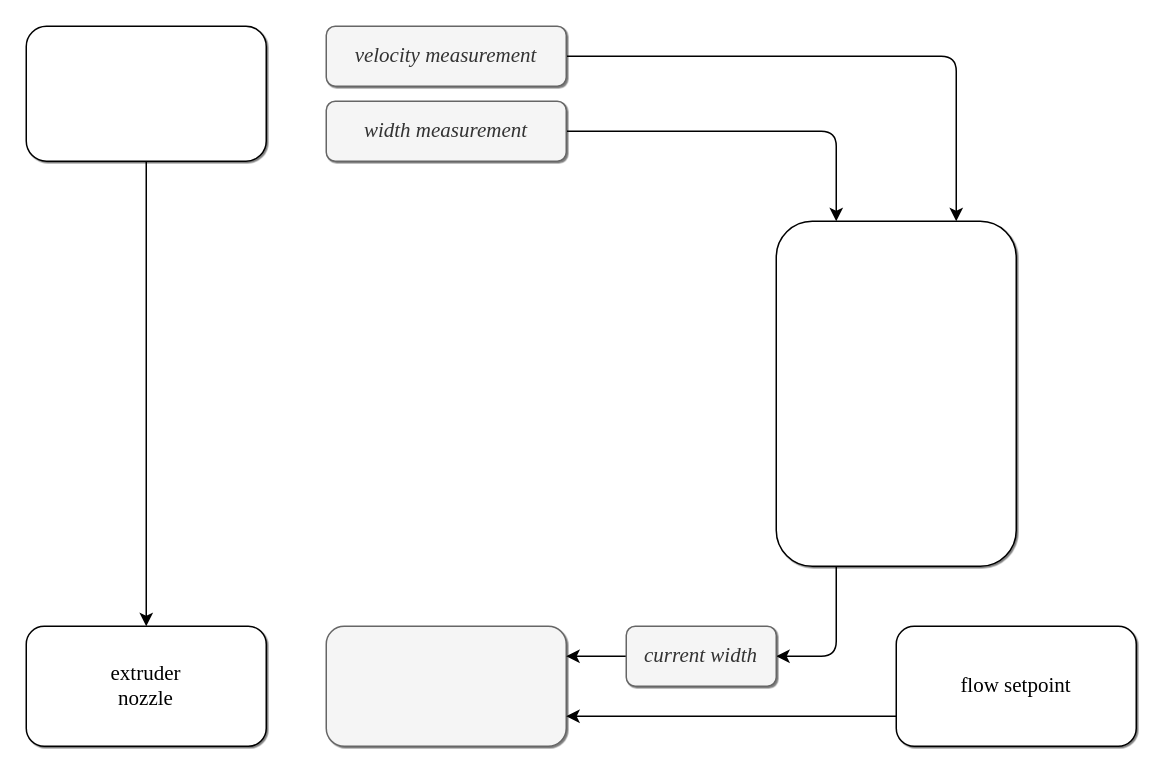
The diagram is 1164 pixels wide and 774 high, and some of its shapes have lost their labels. The shapes that lost their labels are listed below. From the top down, each one's centre as x and y in pixels, then its label:
At pixel 146 94: "filament sensor".
At pixel 896 394: "width measurement history and sampling".
At pixel 446 686: "flow controller".
